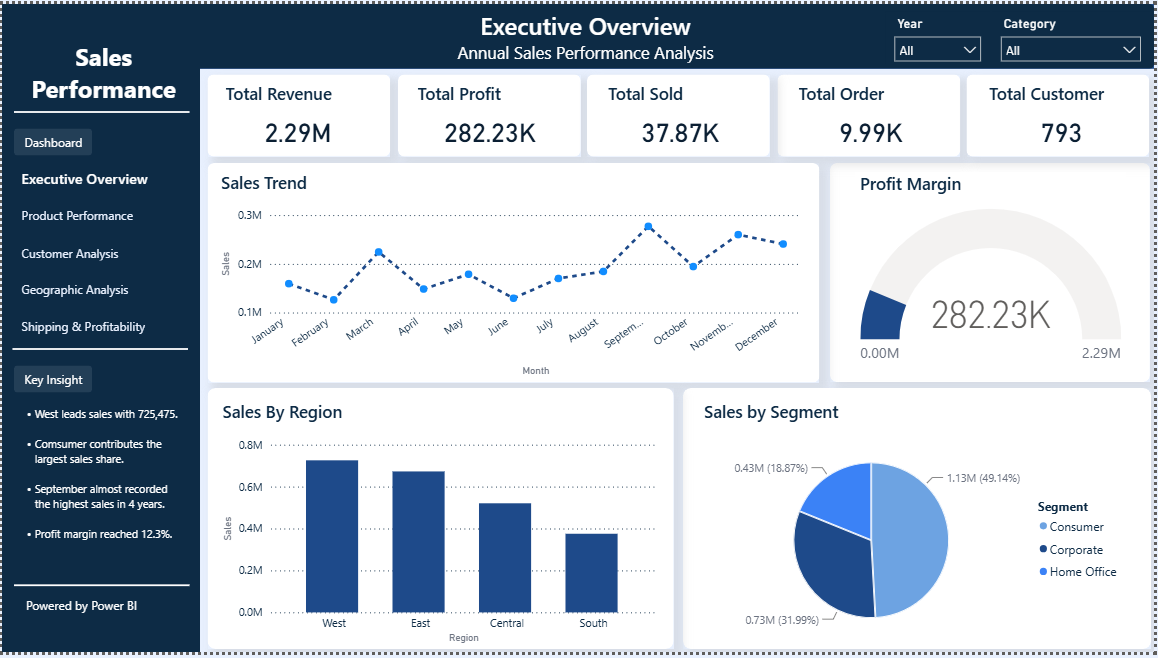

The page's visual inventory and layout, read from the dashboard file:
{"tool":"powerbi","page":{"name":"Executive Overview","canvas":[1280,720],"ordinal":0},"visuals":[{"type":"shape","box":[920,176.7,355.6,243.3],"z":0},{"type":"shape","box":[861.5,79,203,91],"z":1000},{"type":"shape","box":[228.3,79,203,91],"z":2000},{"type":"shape","box":[439.4,79,203,91],"z":3000},{"type":"shape","box":[650.4,79,203,91],"z":4000},{"type":"shape","box":[1072.5,78.8,203,91],"z":5000},{"type":"shape","box":[170,0,1110,72],"z":6000},{"type":"shape","box":[0,0,220,720],"z":7000},{"type":"shape","box":[228,176,680,244],"z":8000},{"type":"shape","box":[756,426,520,290],"z":9000},{"type":"shape","box":[228,426,518,290],"z":10000},{"type":"pageNavigator","box":[21.7,178.3,180,195],"z":11000},{"type":"card","title":"Total Revenue","fields":{"Values":["Sample___Superstore.Total Sales"]},"box":[244,86,170,74],"z":12000},{"type":"lineChart","title":"Sales Trend","fields":{"Category":["Sample___Superstore.ad_date.Variation.Date Hierarchy.Month"],"Y":["Sum(Sample___Superstore.Sales)"]},"box":[238.6,185.7,654.3,232.9],"z":13000},{"type":"card","title":"Total Profit","fields":{"Values":["Sum(Sample___Superstore.Profit)"]},"box":[456,86,170,74],"z":14000},{"type":"card","title":"Total Sold","fields":{"Values":["Sum(Sample___Superstore.Quantity)"]},"box":[668,86,170,74],"z":15000},{"type":"card","title":"Total Order","fields":{"Values":["CountNonNull(Sample___Superstore.Customer ID)"]},"box":[880,86,170,74],"z":16000},{"type":"card","title":"Total Customer","fields":{"Values":["Count(Sample___Superstore.Customer Name)"]},"box":[1092,86,170,74],"z":17000},{"type":"gauge","title":"Profit Margin","fields":{"Y":["Sum(Sample___Superstore.Profit)"],"MaxValue":["Sum(Sample___Superstore.Sales)"]},"box":[947.5,186.2,300,222.5],"z":18000},{"type":"columnChart","title":"Sales By Region","fields":{"Y":["Sum(Sample___Superstore.Sales)"],"Category":["Sample___Superstore.Region"]},"box":[240,440,491.7,275],"z":19000},{"type":"pieChart","title":"Sales by Segment","fields":{"Category":["Sample___Superstore.Segment"],"Y":["Sum(Sample___Superstore.Sales)"]},"box":[775,440,478,276],"z":20000},{"type":"textbox","box":[3.1,34.6,219.2,88.5],"z":21000},{"type":"textbox","box":[21.7,653.3,170,35],"z":22000},{"type":"shape","box":[12.5,110.8,195,16.7],"z":23000},{"type":"shape","box":[12.5,138.3,86.7,30],"z":24000},{"type":"shape","box":[11.7,368.3,195,30],"z":25000},{"type":"shape","box":[13.3,630,195,31.7],"z":26000},{"type":"textbox","box":[393.3,0,510,70],"z":27000},{"type":"slicer","fields":{"Values":["Sample___Superstore.Category"]},"box":[1100,7.5,175,58.8],"z":28000},{"type":"slicer","fields":{"Values":["Sample___Superstore.ad_date.Variation.Date Hierarchy.Year"]},"box":[981.2,7.6,116.6,59.1],"z":29000},{"type":"textbox","box":[15.8,137.5,80.8,30],"z":30000},{"type":"shape","box":[13.3,401.7,86.7,30],"z":31000},{"type":"textbox","box":[15.8,400.8,80.8,30],"z":32000},{"type":"textbox","box":[12.9,441.4,188.6,182.9],"z":33000}]}

Visuals, with their boxes in screenshot pixels (x1, y1, x2, y2), scaled from the page's 1280x720 canvas onto the 1158x658 screenshot:
shape: locate(832, 161, 1154, 384)
shape: locate(779, 72, 963, 155)
shape: locate(207, 72, 390, 155)
shape: locate(398, 72, 581, 155)
shape: locate(588, 72, 772, 155)
shape: locate(970, 72, 1154, 155)
shape: locate(154, 0, 1157, 66)
shape: locate(0, 0, 199, 657)
shape: locate(206, 161, 821, 384)
shape: locate(684, 389, 1154, 654)
shape: locate(206, 389, 675, 654)
pageNavigator: locate(20, 163, 182, 341)
"Total Revenue" card: locate(221, 79, 375, 146)
"Sales Trend" lineChart: locate(216, 170, 808, 383)
"Total Profit" card: locate(413, 79, 566, 146)
"Total Sold" card: locate(604, 79, 758, 146)
"Total Order" card: locate(796, 79, 950, 146)
"Total Customer" card: locate(988, 79, 1142, 146)
"Profit Margin" gauge: locate(857, 170, 1129, 374)
"Sales By Region" columnChart: locate(217, 402, 662, 653)
"Sales by Segment" pieChart: locate(701, 402, 1134, 654)
textbox: locate(3, 32, 201, 112)
textbox: locate(20, 597, 173, 629)
shape: locate(11, 101, 188, 117)
shape: locate(11, 126, 90, 154)
shape: locate(11, 337, 187, 364)
shape: locate(12, 576, 188, 605)
textbox: locate(356, 0, 817, 64)
slicer - Sample___Superstore.Category: locate(995, 7, 1153, 61)
slicer - Sample___Superstore.ad_date.Variation.Date Hierarchy.Year: locate(888, 7, 993, 61)
textbox: locate(14, 126, 87, 153)
shape: locate(12, 367, 90, 395)
textbox: locate(14, 366, 87, 394)
textbox: locate(12, 403, 182, 571)
